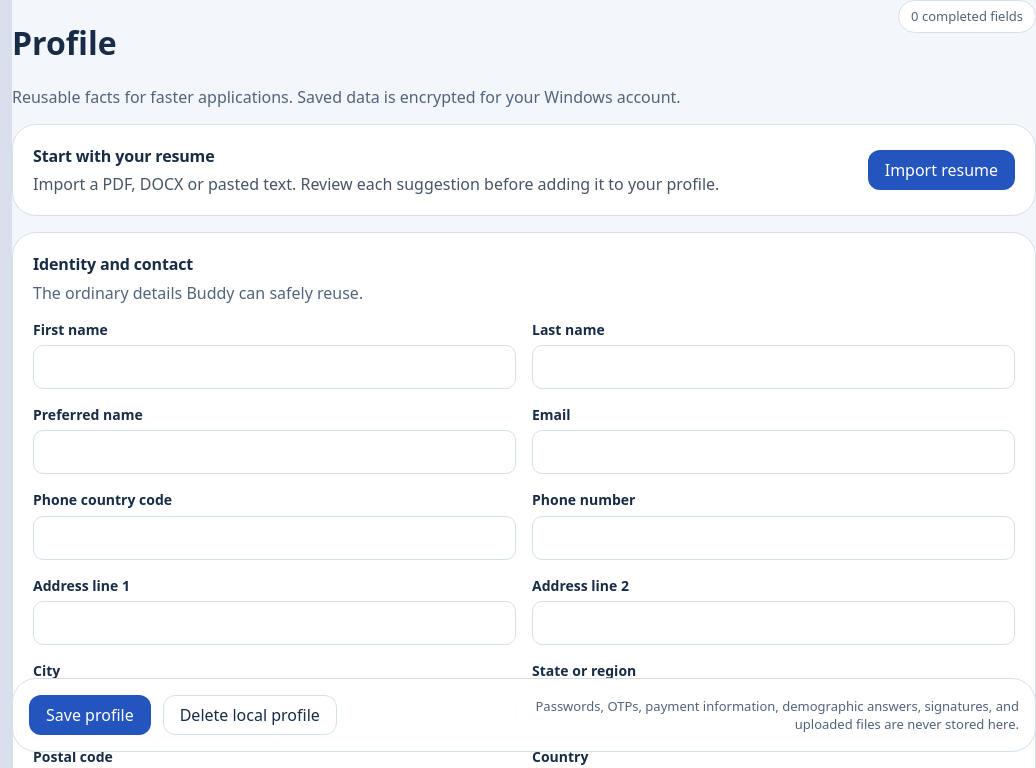
Test: ProfilePage › saves a partial profile and explains local encryption
Type "Alex" into the field labelled "First name".
click(274, 367); type("Alex")  # box [33,345,516,389]
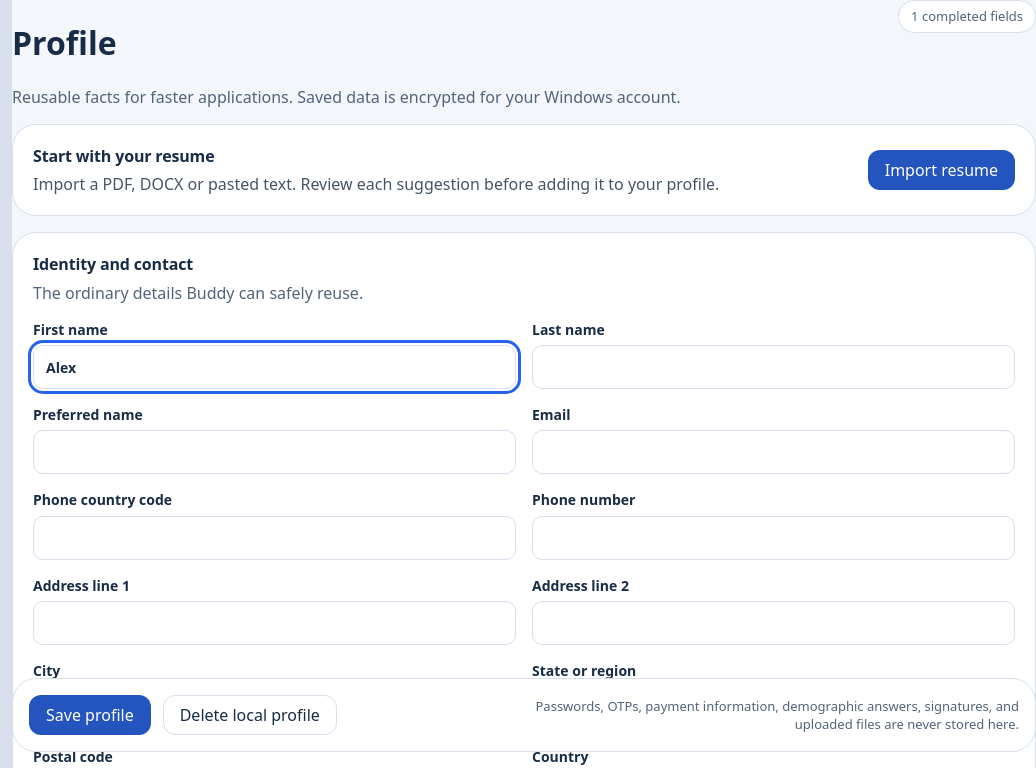
Type "alex@example.com" into the field labelled "Email".
click(774, 452); type("alex@example.com")  # box [532,430,1015,474]
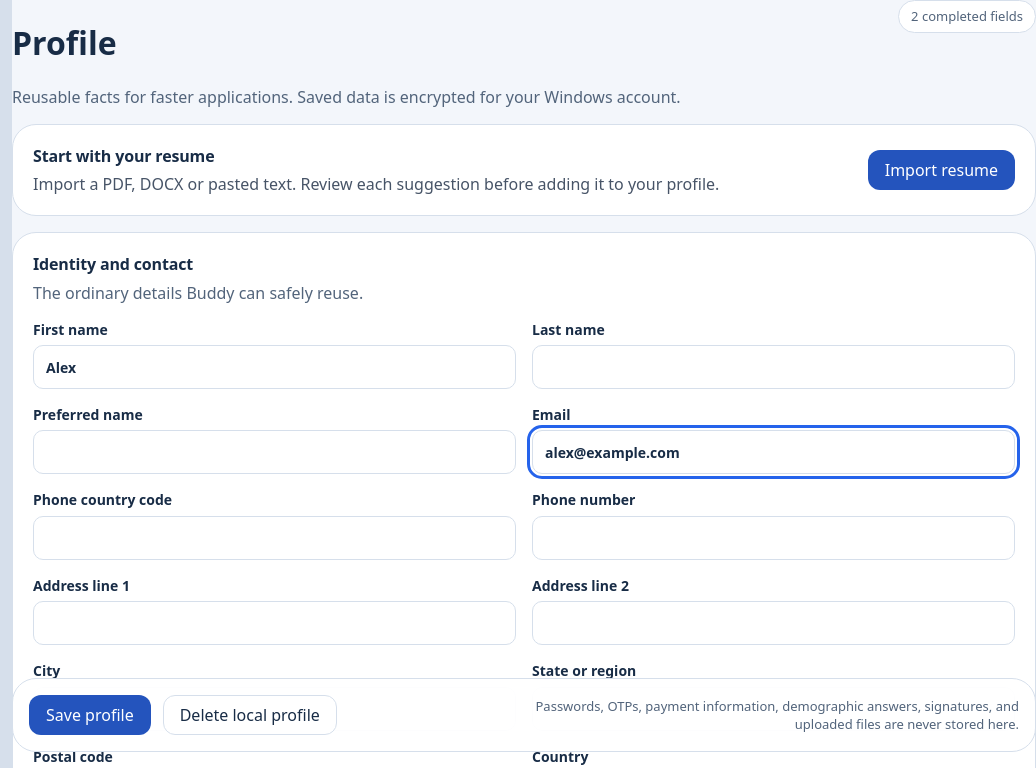
Click the button "Save profile".
click(90, 715)  # box [29,695,151,735]
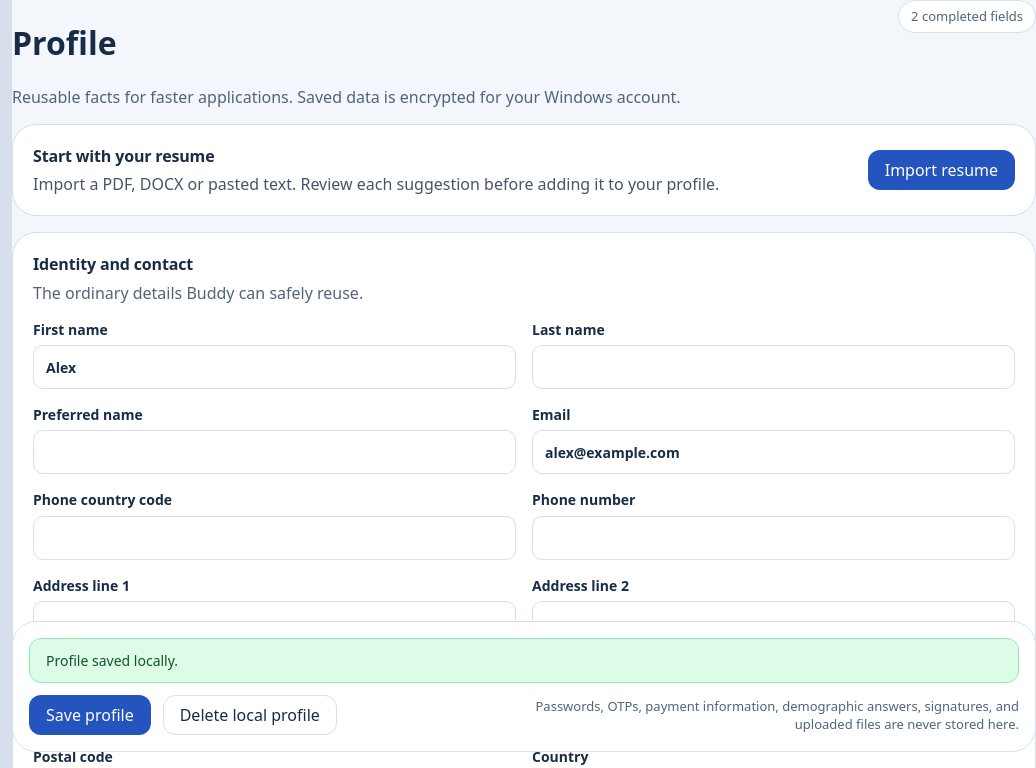
Expected: the text "encrypted for your Windows account" is shown, [12,86,681,108]
Expected: the text "Profile saved locally." is shown, [29,638,1019,683]
